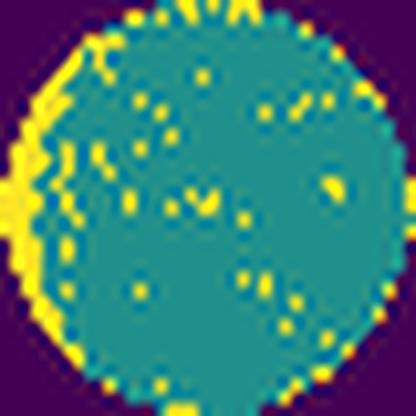Edge-Loc: (0, 45, 91, 373)
